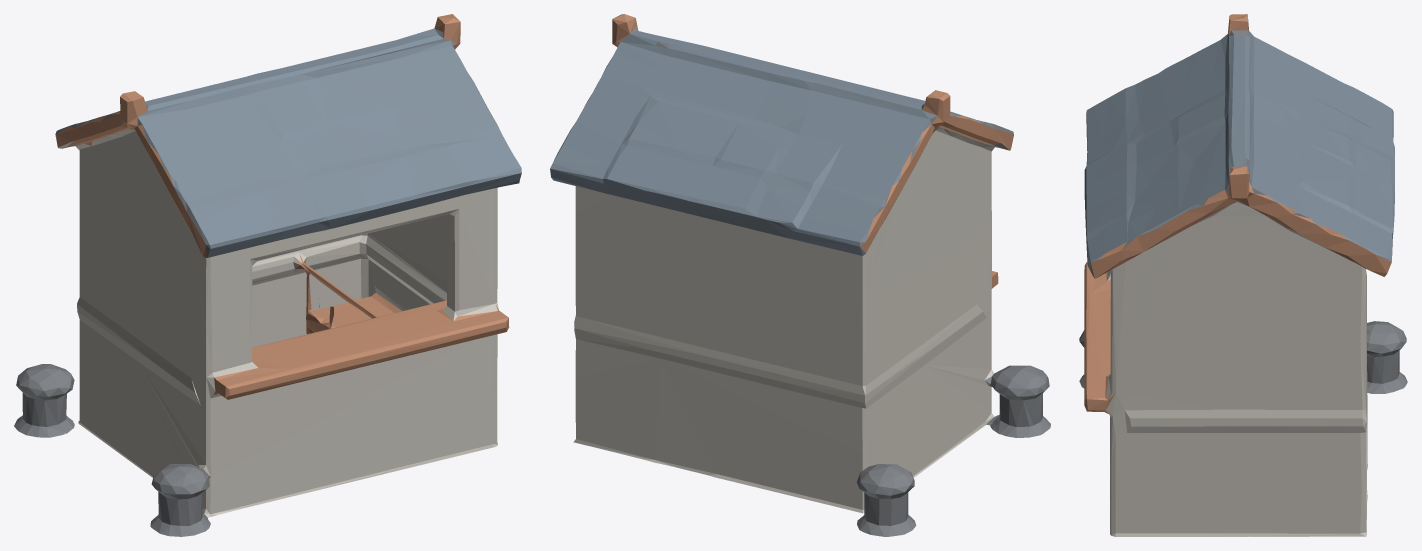
The picture shows the model from 3 angles, left to right: view 1: azimuth 30°, elevation 25°; view 2: azimuth 150°, elevation 25°; view 3: azimuth 270°, elevation 25°; orthographic projection.
Parts seen in each view (by area): view 1: geometry_0; view 2: geometry_0; view 3: geometry_0.
Boxes of the visible parts, <box> form: geometry_0: <box>14,14,521,536</box>; geometry_0: <box>550,14,1050,536</box>; geometry_0: <box>1079,14,1407,536</box>.
Bounding box in the file's own units: 0.9371 × 0.9187 × 0.7296.
